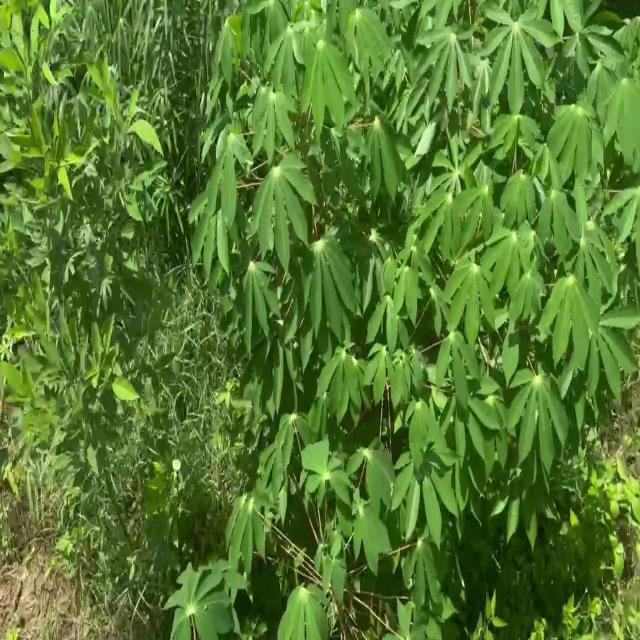Maleza: (0, 262, 188, 599), (0, 0, 180, 244), (142, 312, 242, 520)
Mosca: (413, 441, 440, 467), (531, 406, 551, 429), (493, 351, 513, 371), (340, 87, 350, 111)
